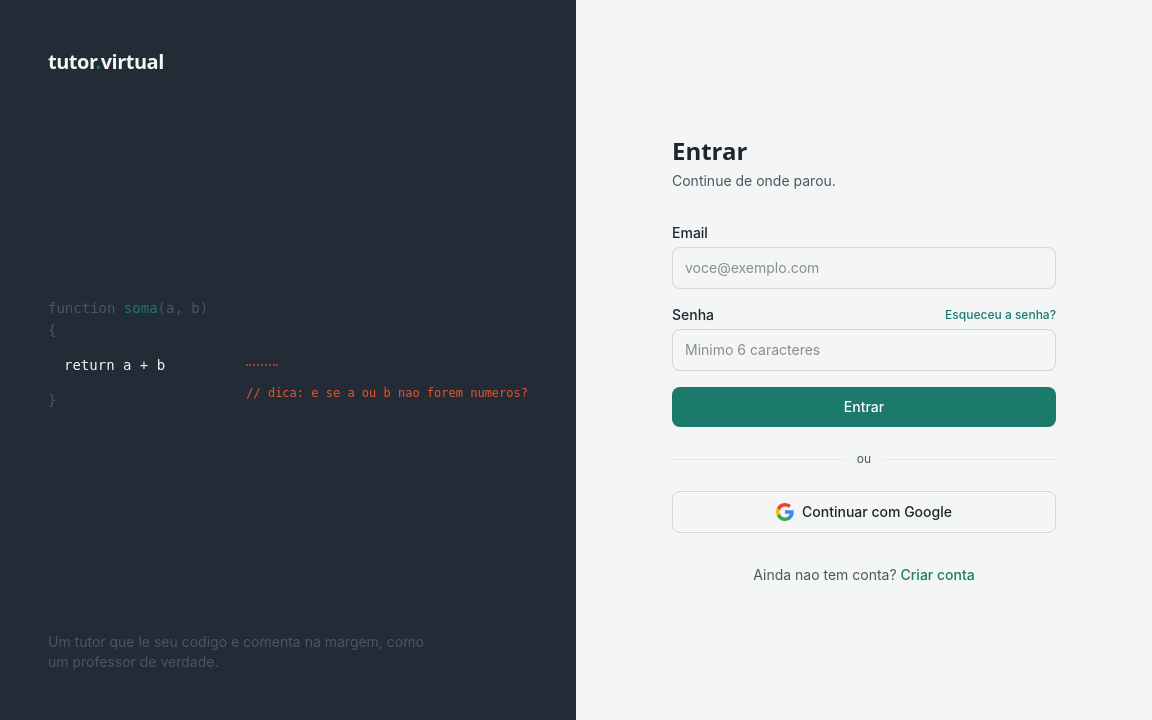
Scenario: recuperação de senha › solicita o email antes de enviar a redefinição
Click the button "Esqueceu a senha?" at (1001, 315), box [945,307,1056,323]
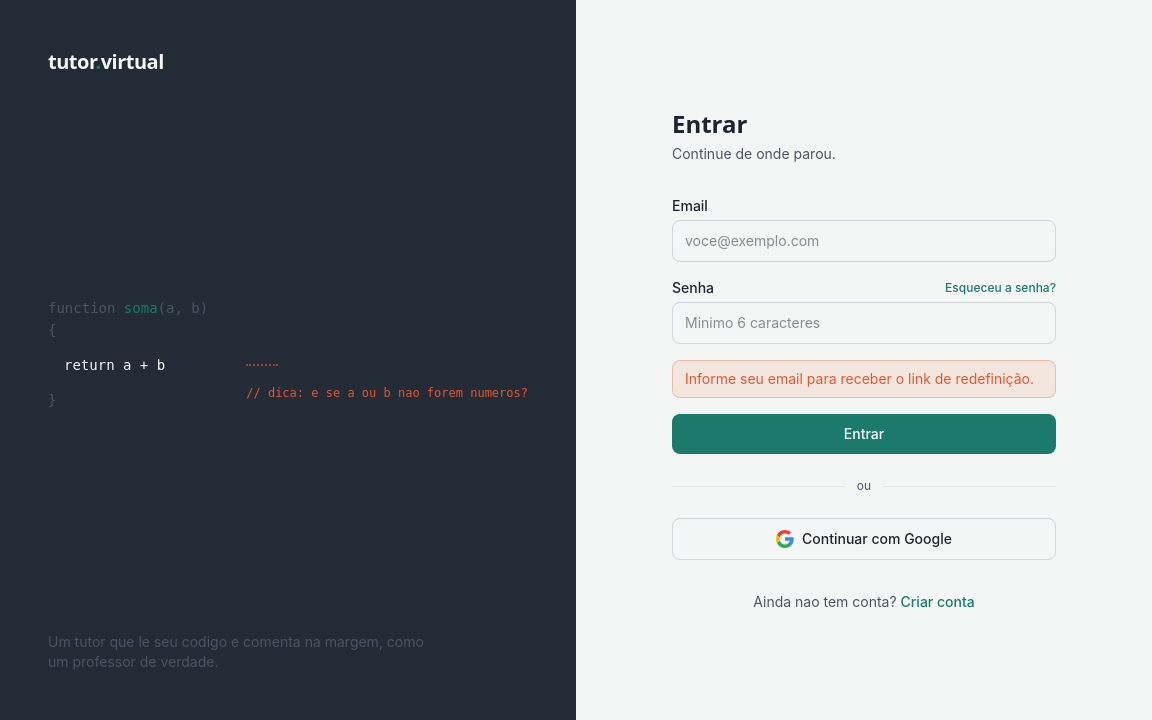
Check: the message shows "Informe seu email", box [685,370,1034,387]
